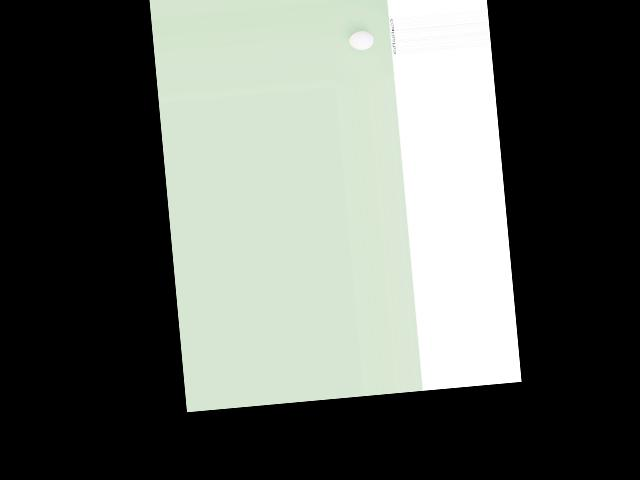egg: (348, 30, 374, 51)
